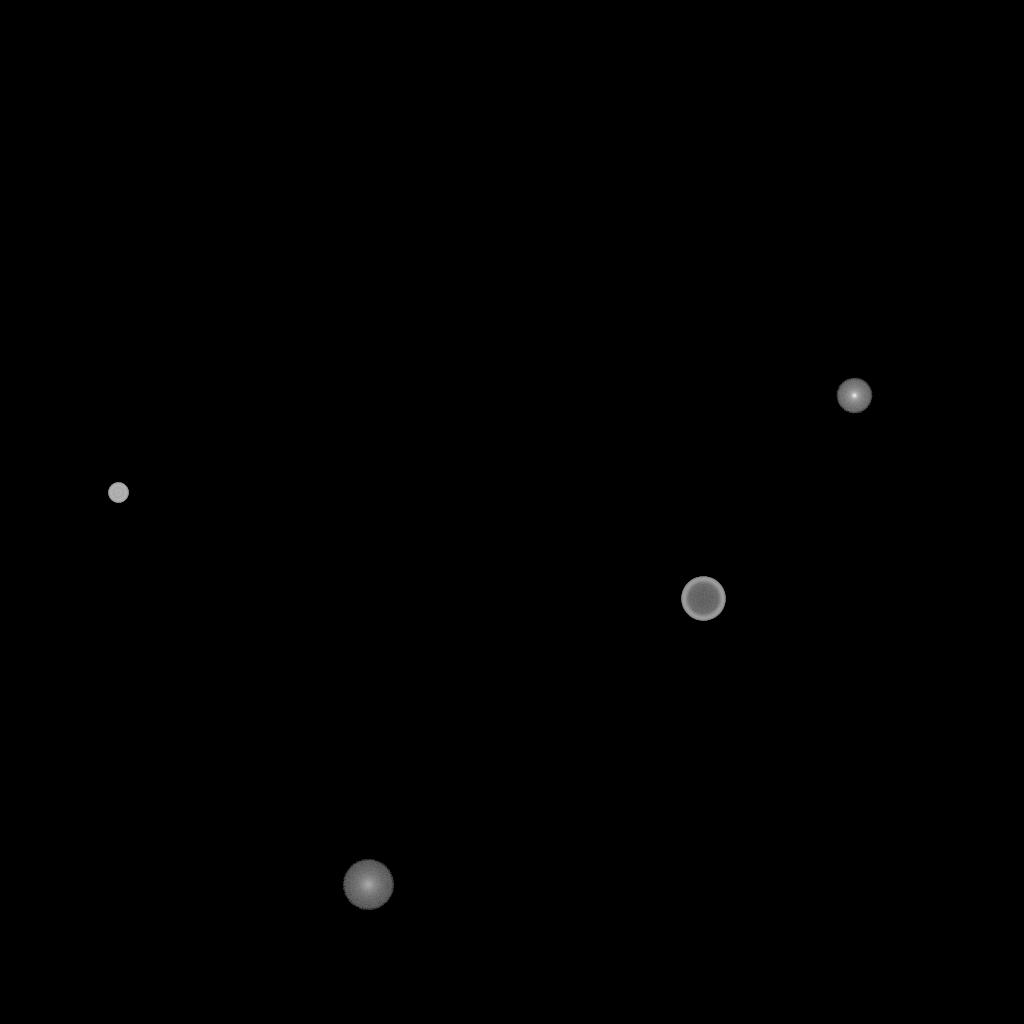depth:-40: (108, 483, 128, 503)
depth:-70: (681, 577, 725, 621)
depth:0: (836, 378, 872, 414)
depth:20: (342, 860, 394, 910)
